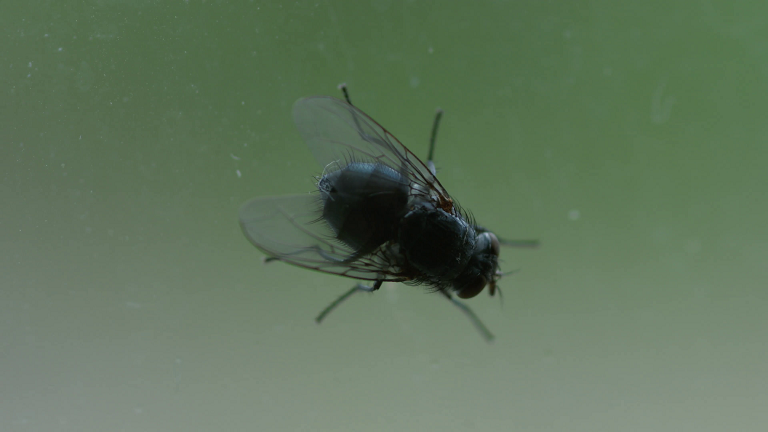house fly: (224, 60, 549, 354)
